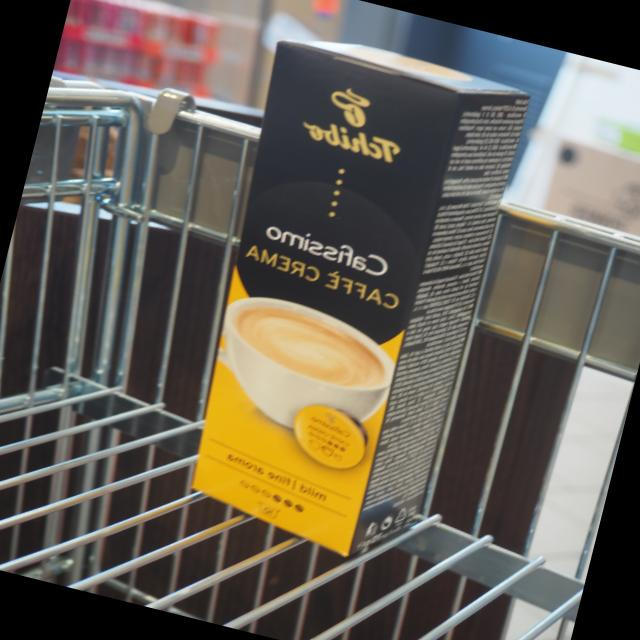Simo CCMild bigpack: (184, 0, 537, 589)
